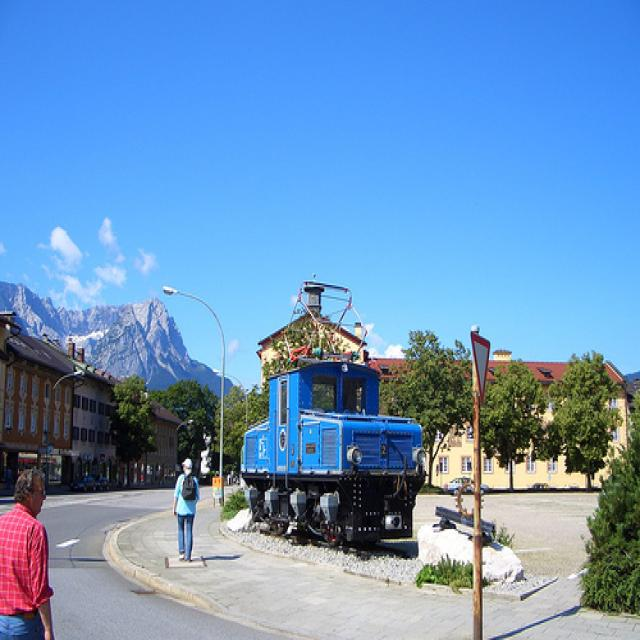light_vehicle: (443, 476, 490, 497), (69, 473, 97, 495), (97, 478, 115, 493)
